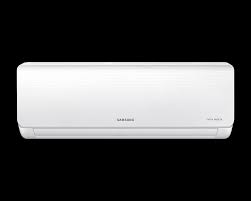ac: (16, 60, 237, 143)
